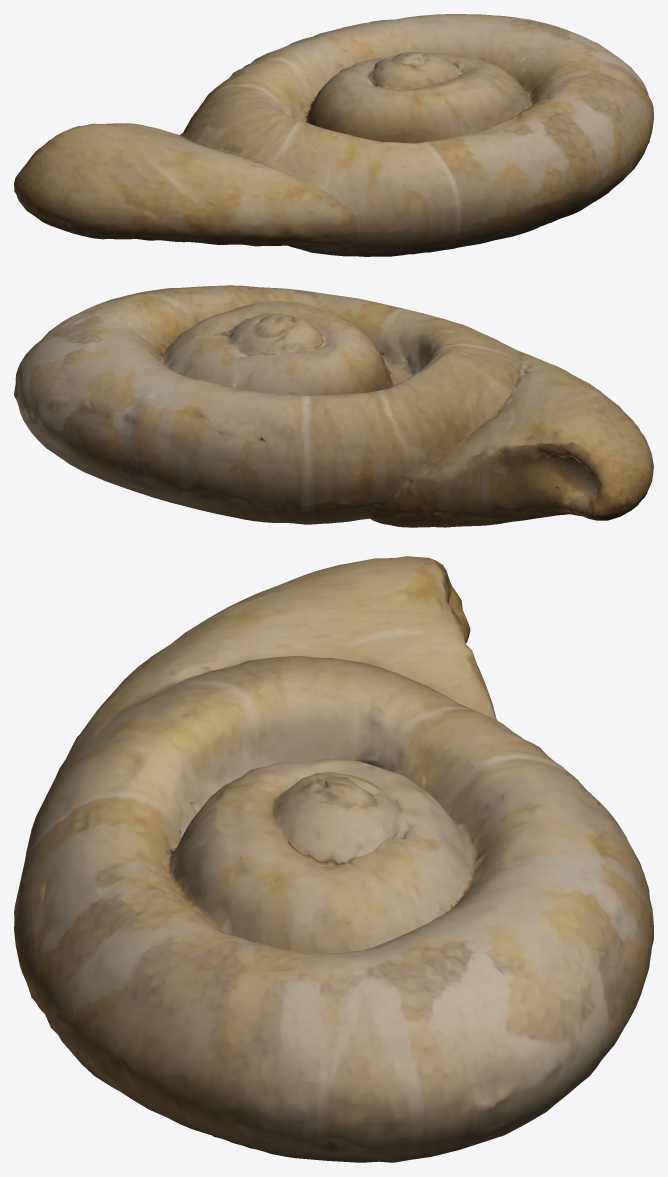
3 renders of one model, top to bottom at view 1: azimuth 30°, elevation 25°; view 2: azimuth 150°, elevation 25°; view 3: azimuth 270°, elevation 25°, orthographic. The views are drawn at different scales.
Parts seen in each view (by area): view 1: world; view 2: world; view 3: world.
Boxes of the visible parts, x1,y1,x2,y2 form: world: [14, 14, 653, 256]; world: [14, 285, 653, 527]; world: [14, 556, 653, 1162].
Bounding box in the file's own units: 0.11 × 0.0268 × 0.0615.
1 material, 1 textured.
